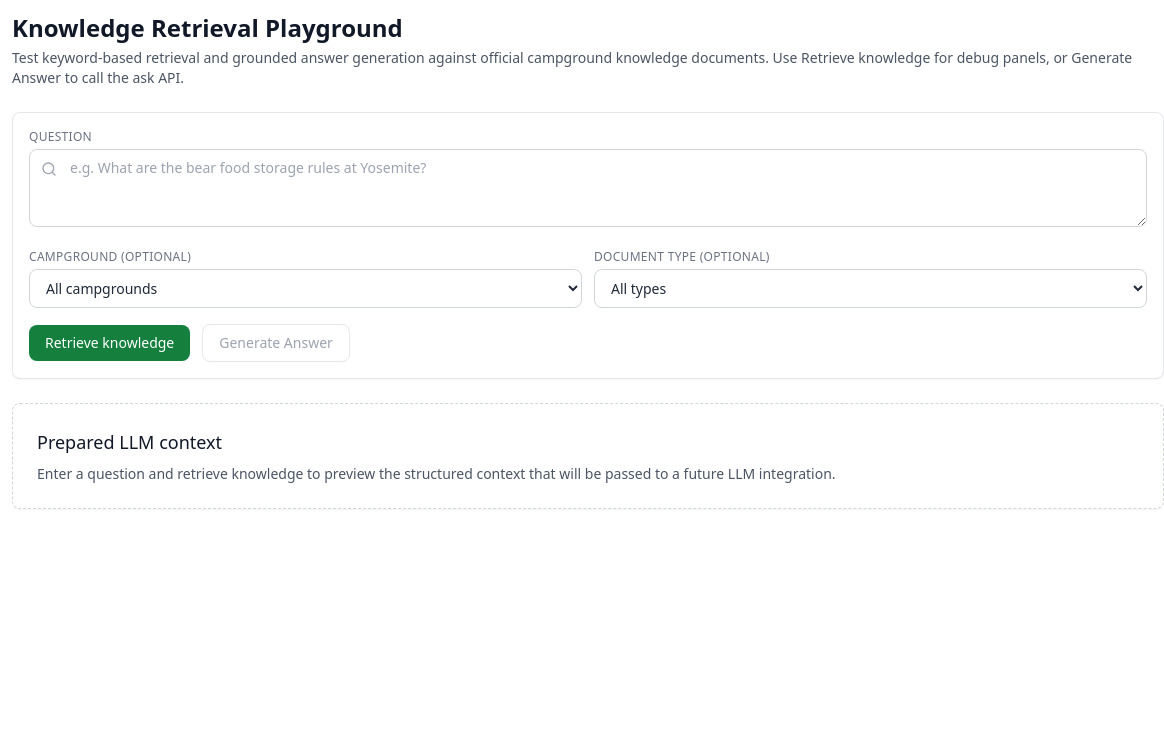
Test: RetrievalPlaygroundPage › shows no results message when nothing matches
Type "qqqqqqqqqqqq" into the text box named "Enter a question to retrieve knowledge" at (588, 188), box [29,149,1147,227]
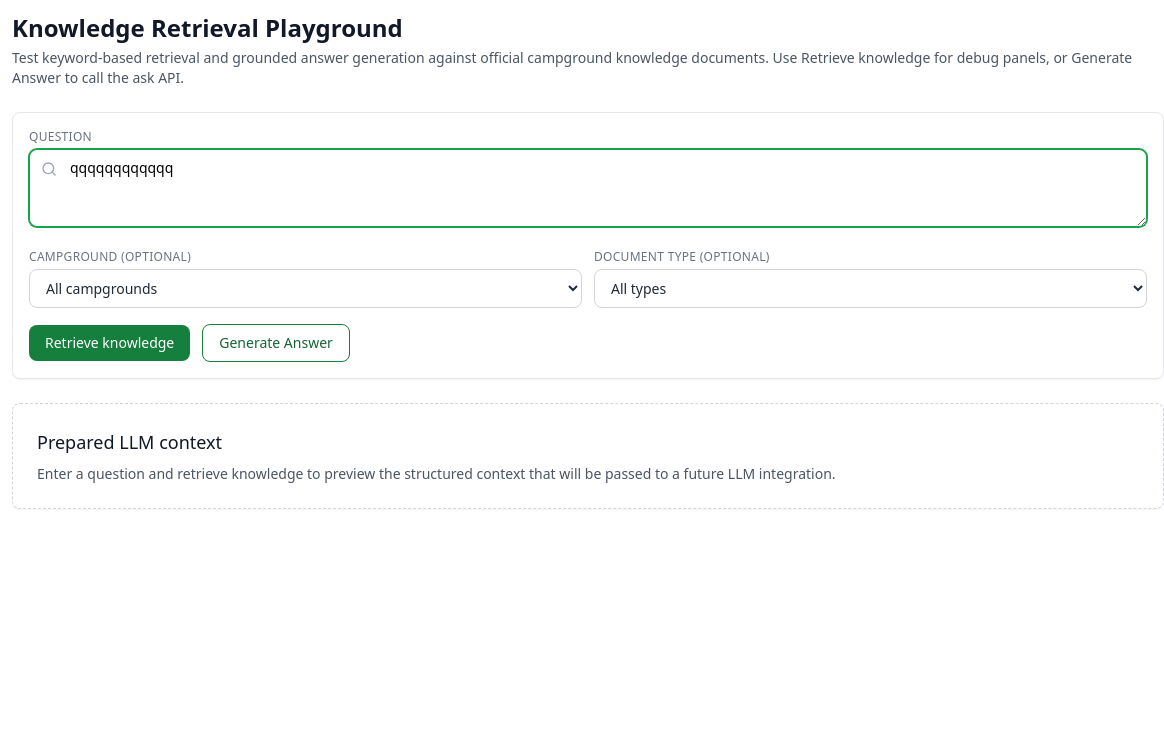
Click the button "Retrieve knowledge" at (110, 343), box [29,325,190,361]
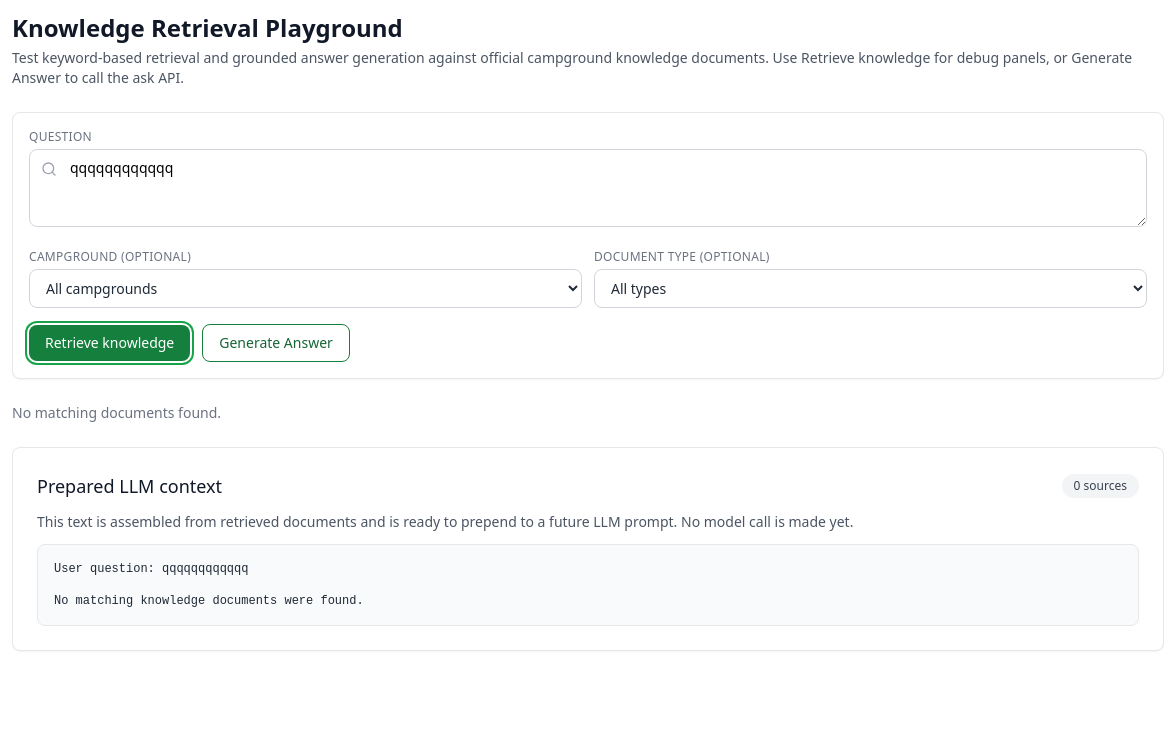
Result: the text "No matching documents found." is shown at [12,403,221,422]
Result: the text named "Prepared LLM context preview" shows "No matching knowledge documents were found." at [54,562,364,608]
